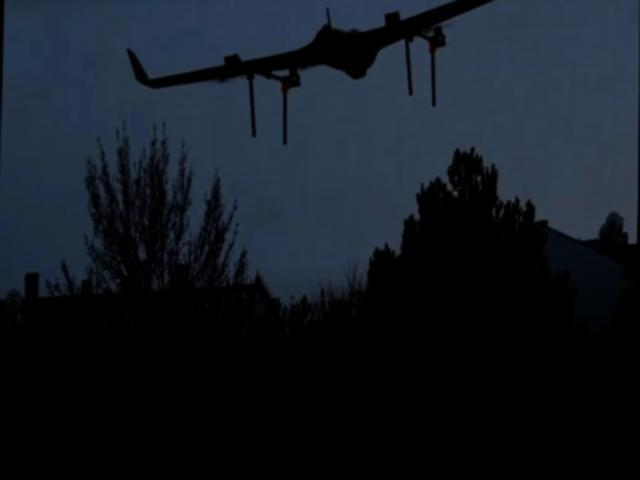iha: (122, 0, 537, 165)
